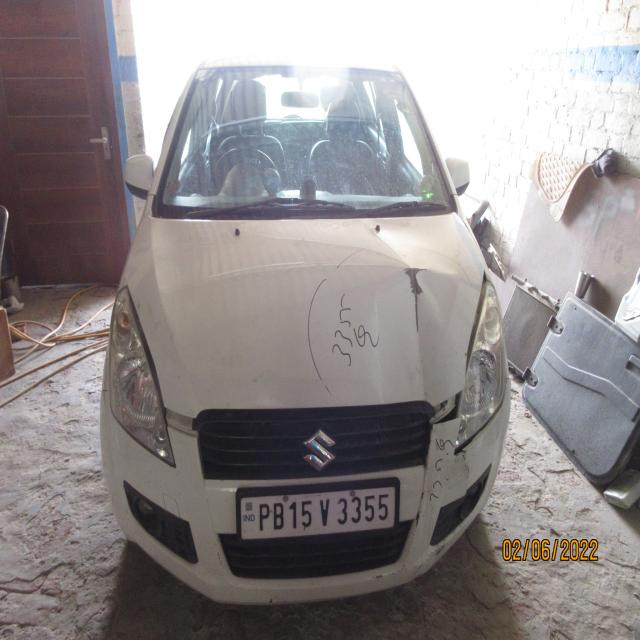damage: (348, 217, 483, 390), (371, 537, 453, 586), (422, 389, 465, 441), (414, 448, 438, 530), (449, 442, 478, 492)
